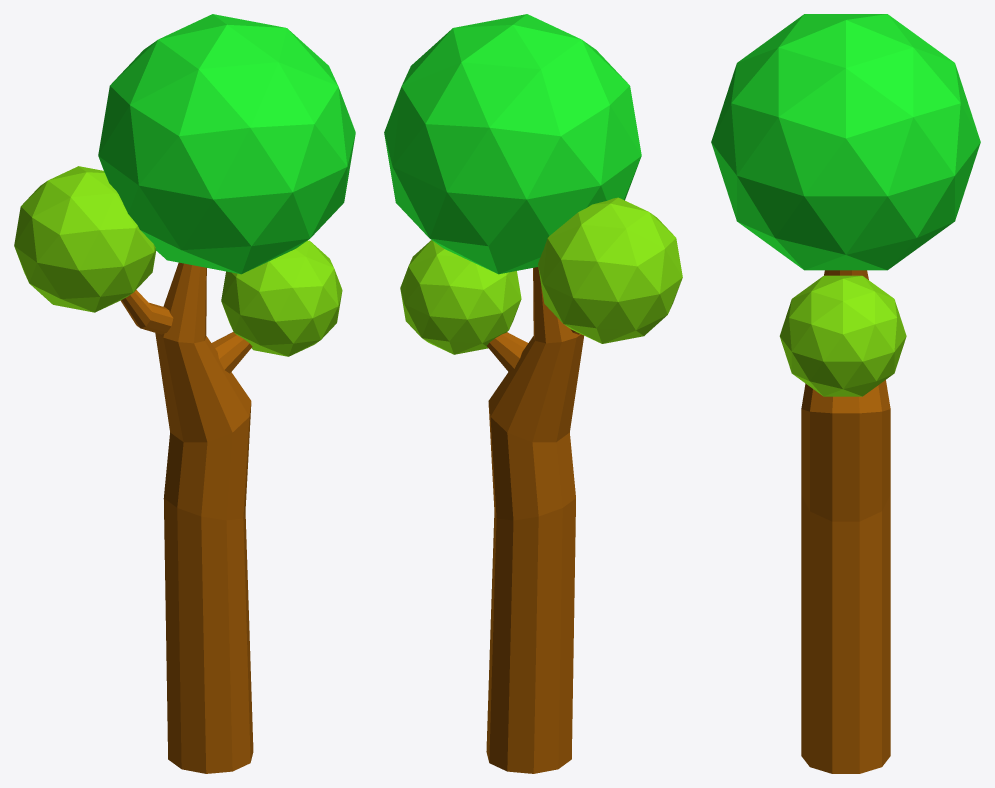
File: tree 1.fbx
3 views of the same model, side by side, from view 1: azimuth 30°, elevation 25°; view 2: azimuth 150°, elevation 25°; view 3: azimuth 270°, elevation 25° (orthographic). The views are drawn at different scales.
Parts seen in each view (by area): view 1: Icosphere.003, Cylinder.008, Icosphere.004, Icosphere.005, Cylinder.010, Cylinder.009; view 2: Icosphere.003, Cylinder.008, Icosphere.004, Icosphere.005, Cylinder.009; view 3: Icosphere.003, Cylinder.008, Icosphere.005.
Boxes of the visible parts, box(x1,y1,x2,y2) form: Icosphere.003: box(98, 14, 355, 274); Cylinder.008: box(155, 262, 253, 773); Icosphere.004: box(14, 166, 155, 312); Icosphere.005: box(221, 240, 342, 356); Cylinder.010: box(120, 290, 173, 334); Cylinder.009: box(211, 332, 252, 373); Icosphere.003: box(384, 14, 641, 274); Cylinder.008: box(486, 267, 583, 773); Icosphere.004: box(538, 197, 682, 343); Icosphere.005: box(400, 240, 521, 354); Cylinder.009: box(487, 332, 528, 372); Icosphere.003: box(711, 14, 980, 270); Cylinder.008: box(801, 270, 890, 773); Icosphere.005: box(779, 275, 906, 396).
Size of the model in its own units: 763 by 1838 by 604.
